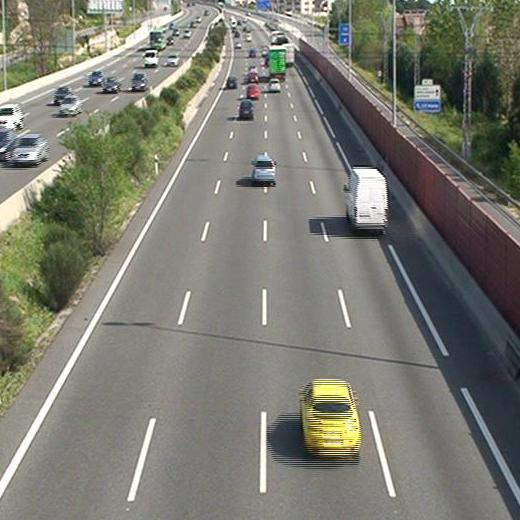car: (300, 380, 360, 456), (252, 156, 276, 182), (238, 100, 255, 121), (268, 78, 282, 91), (247, 85, 259, 98), (226, 74, 237, 87), (246, 71, 257, 81)
truck: (268, 47, 285, 78)
van: (349, 167, 388, 229)
